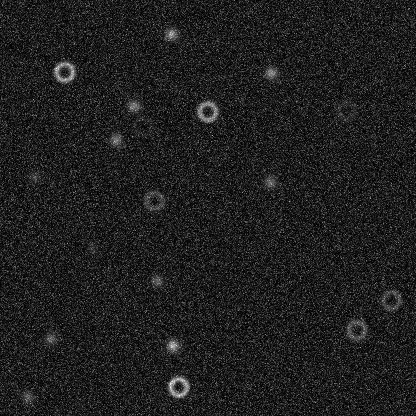Ring: (166, 374, 190, 398), (130, 114, 154, 138), (379, 288, 403, 312), (52, 59, 76, 83), (334, 98, 358, 122), (195, 99, 219, 123), (344, 317, 368, 341), (141, 188, 165, 212)
Spot: (42, 330, 58, 346), (19, 388, 35, 404), (25, 168, 41, 184), (163, 25, 179, 41), (164, 337, 180, 353), (84, 240, 100, 256), (107, 131, 123, 147), (263, 64, 279, 80), (262, 174, 278, 190), (149, 272, 165, 288), (125, 97, 141, 113)
